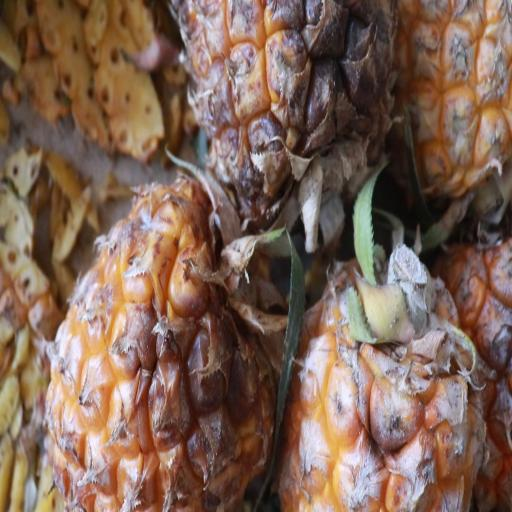Pineapple - v8 v1: (43, 161, 286, 512), (272, 243, 494, 511), (174, 0, 404, 228)
